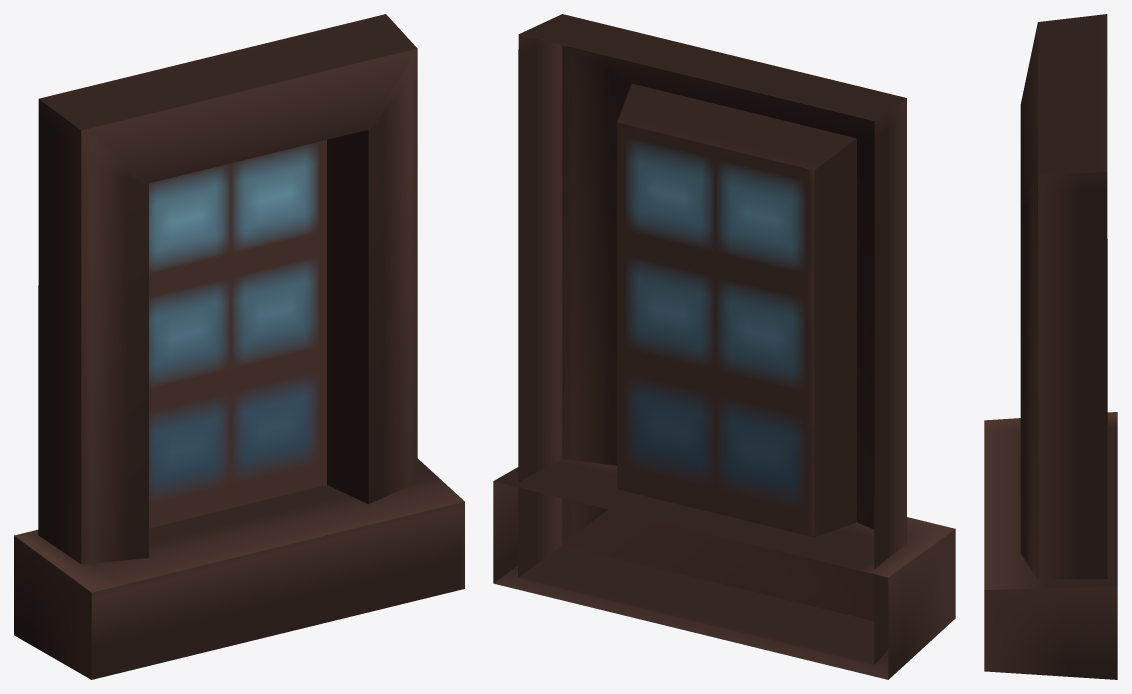
File: window_v2_001.fbx
3 renders of one model, left to right at view 1: azimuth 30°, elevation 25°; view 2: azimuth 150°, elevation 25°; view 3: azimuth 270°, elevation 25°, orthographic. The views are drawn at different scales.
Parts seen in each view (by area): view 1: window_v2_001; view 2: window_v2_001; view 3: window_v2_001.
Part boxes in pixels (x1,y1,x2,y2): window_v2_001: [14, 14, 464, 679]; window_v2_001: [493, 14, 955, 679]; window_v2_001: [984, 14, 1117, 679].
Size of the model in its own units: 95.88 by 127 by 30.85.
